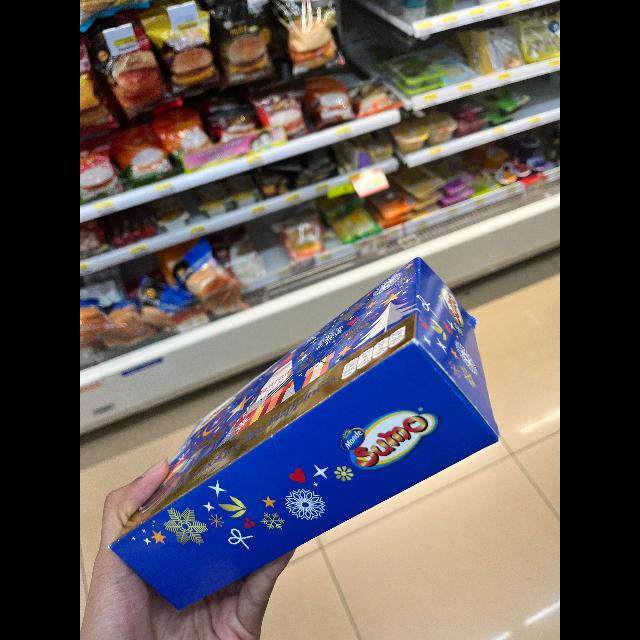cardboard_box: (125, 238, 499, 620)
